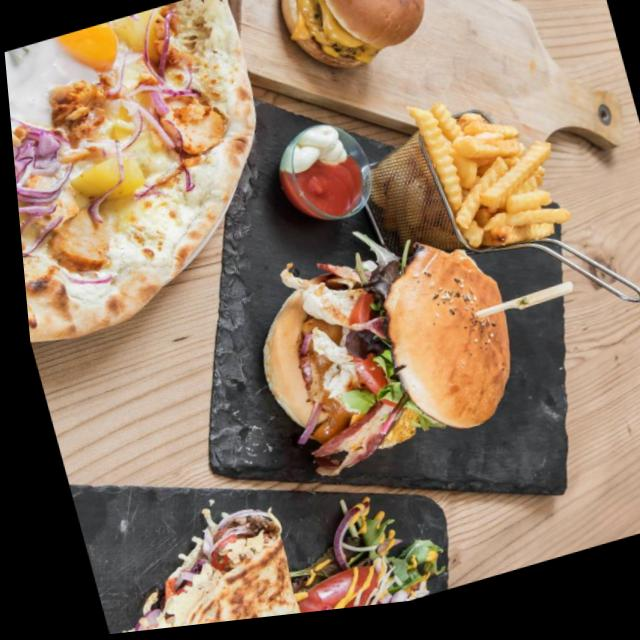burger: (231, 224, 528, 487), (268, 0, 435, 93)
pizza: (1, 0, 307, 353)
